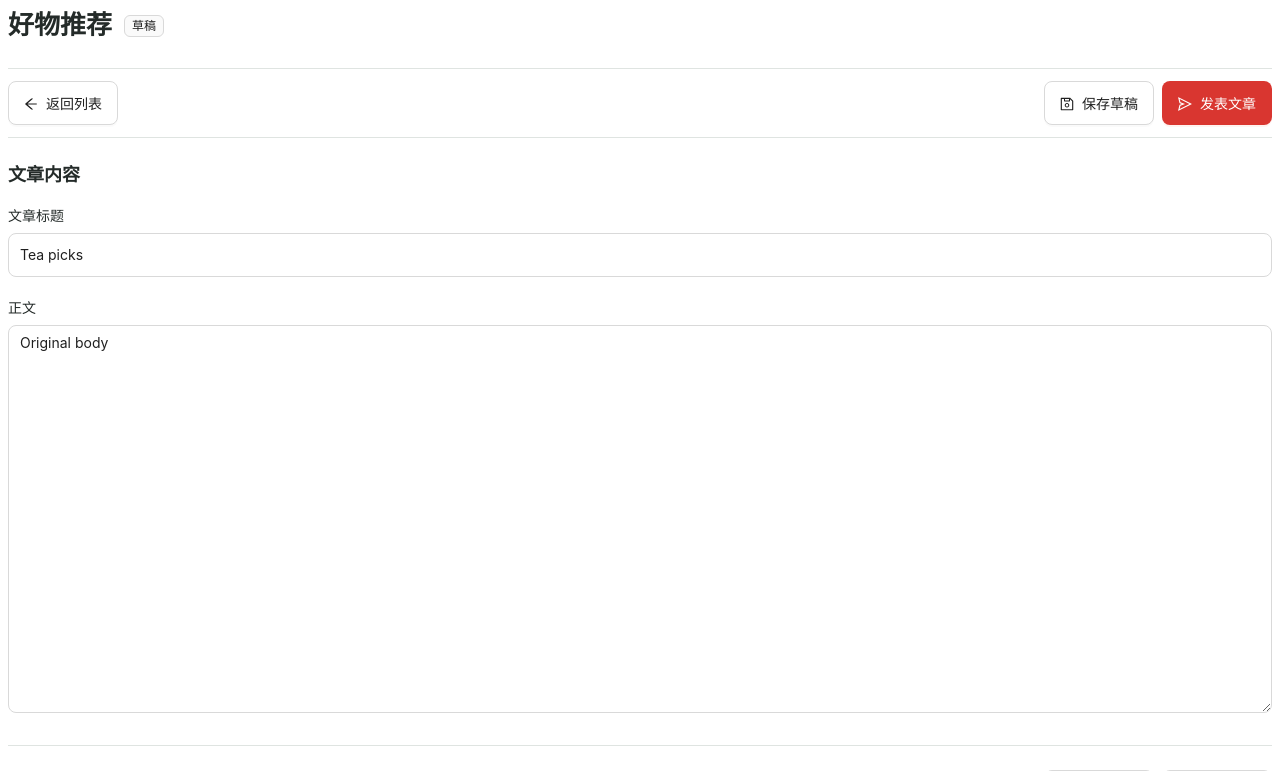
Test case: Recommendations › saves and publishes the returned version
This screenshot has width=1280, height=771.
Replace the text in the field labelled "文章标题" with "Updated picks" at (640, 255), box x1=8 y1=233 x2=1272 y2=277
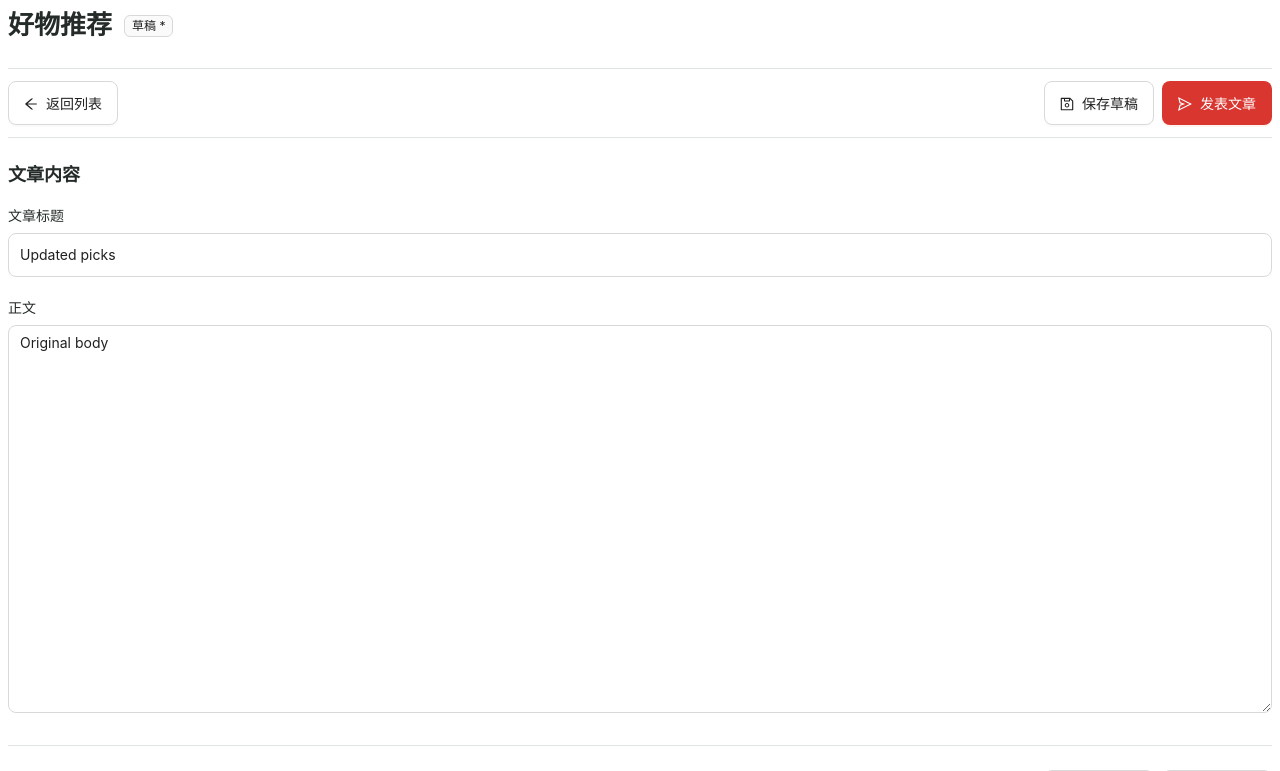
Click the button "发表文章" at (1217, 103), box x1=1162 y1=81 x2=1272 y2=125
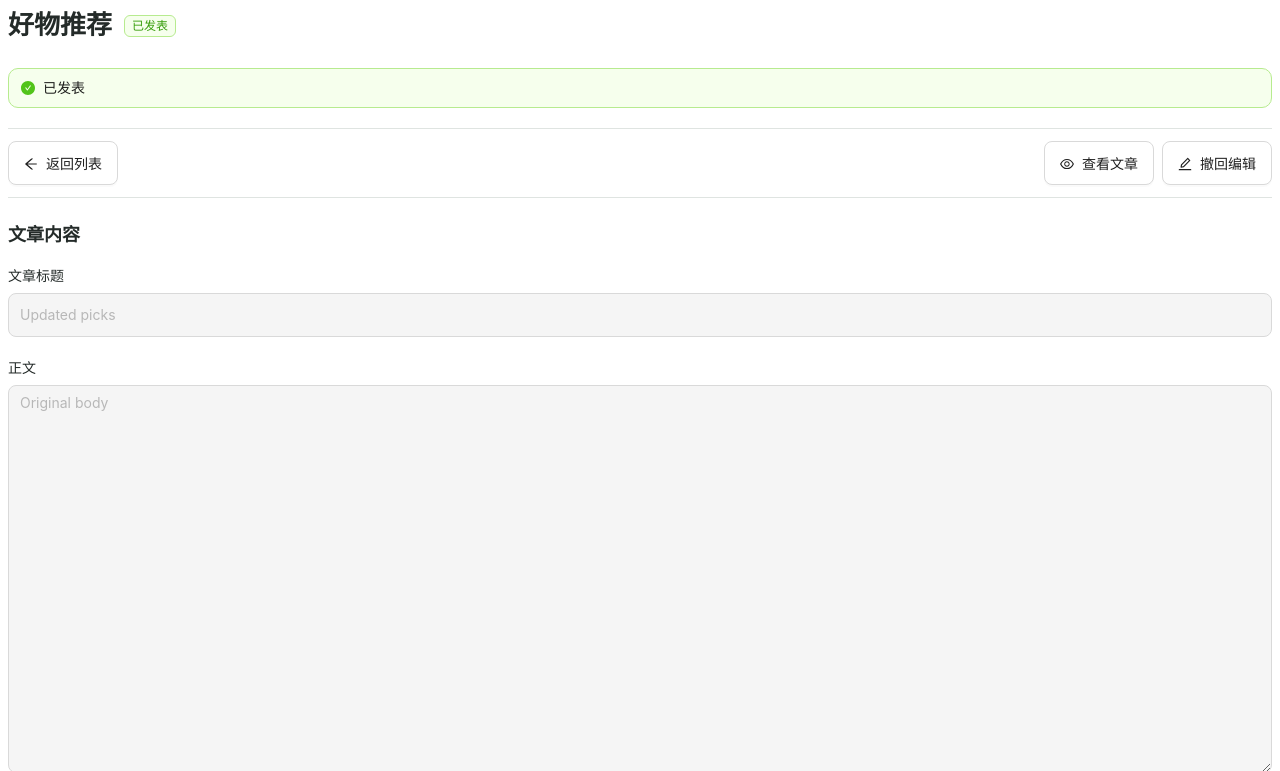
Now the button "撤回编辑" is shown, box x1=1162 y1=141 x2=1272 y2=185
